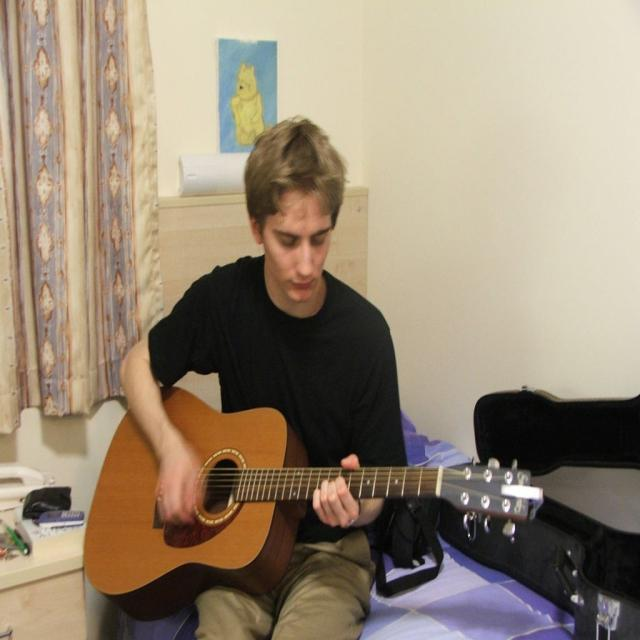guitar: (81, 386, 535, 617)
